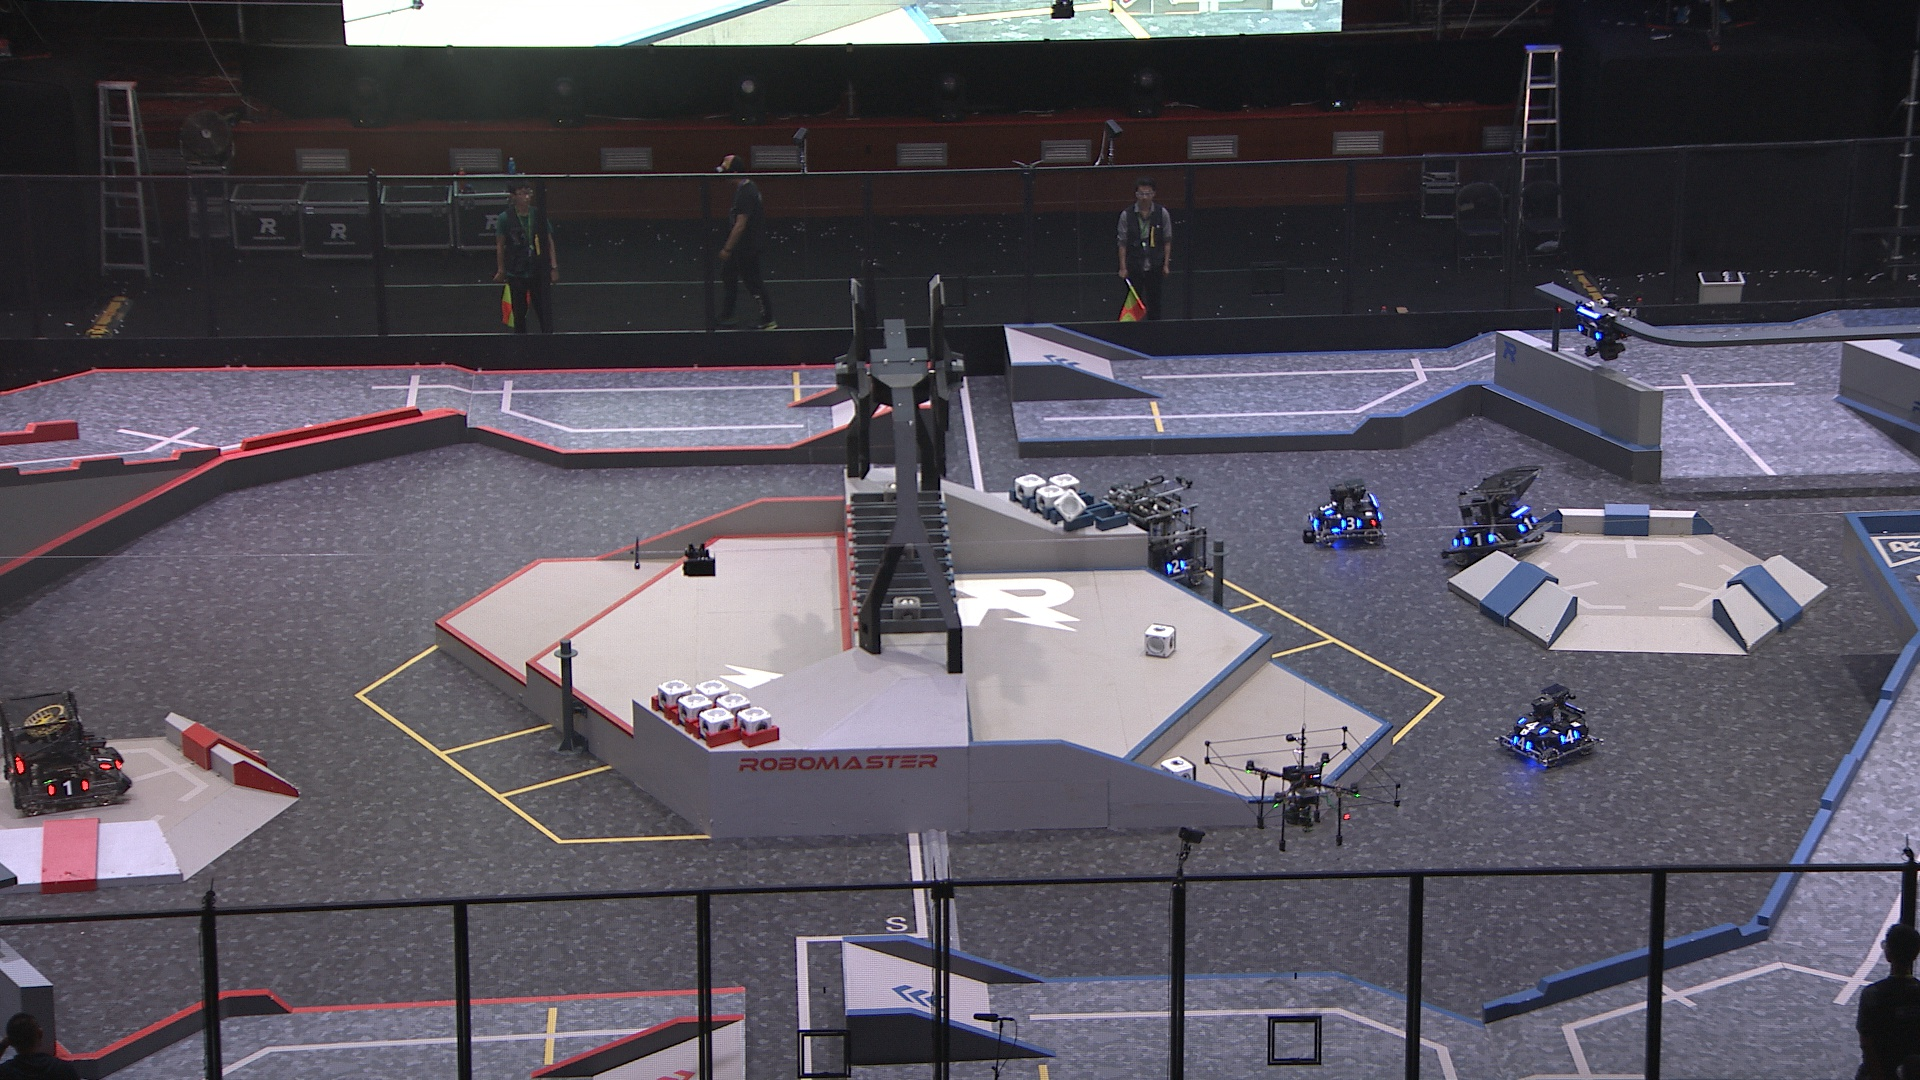armor: (46, 779, 90, 796), (1518, 716, 1545, 737), (1461, 531, 1495, 547), (1510, 736, 1534, 757), (1516, 514, 1538, 537), (1577, 322, 1600, 342), (1560, 728, 1581, 746), (98, 749, 115, 771), (1342, 514, 1364, 531), (1166, 556, 1185, 572), (1319, 498, 1335, 516)
car: (1105, 475, 1212, 595), (1444, 462, 1553, 571), (1501, 680, 1590, 769), (1305, 480, 1386, 547)
watcher: (1571, 294, 1633, 363)
